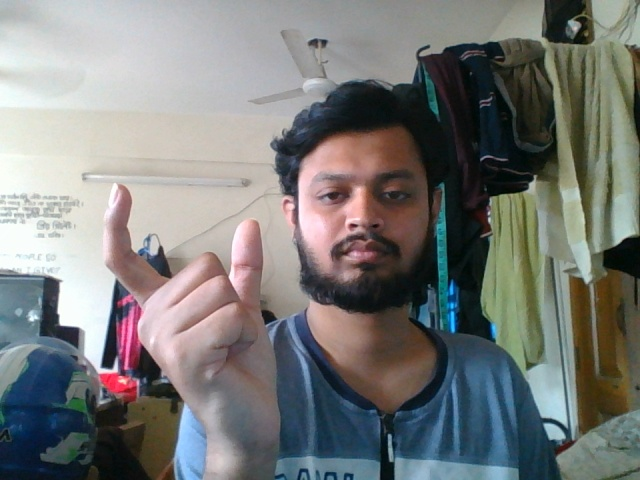chandrobindu: (92, 178, 294, 461)
